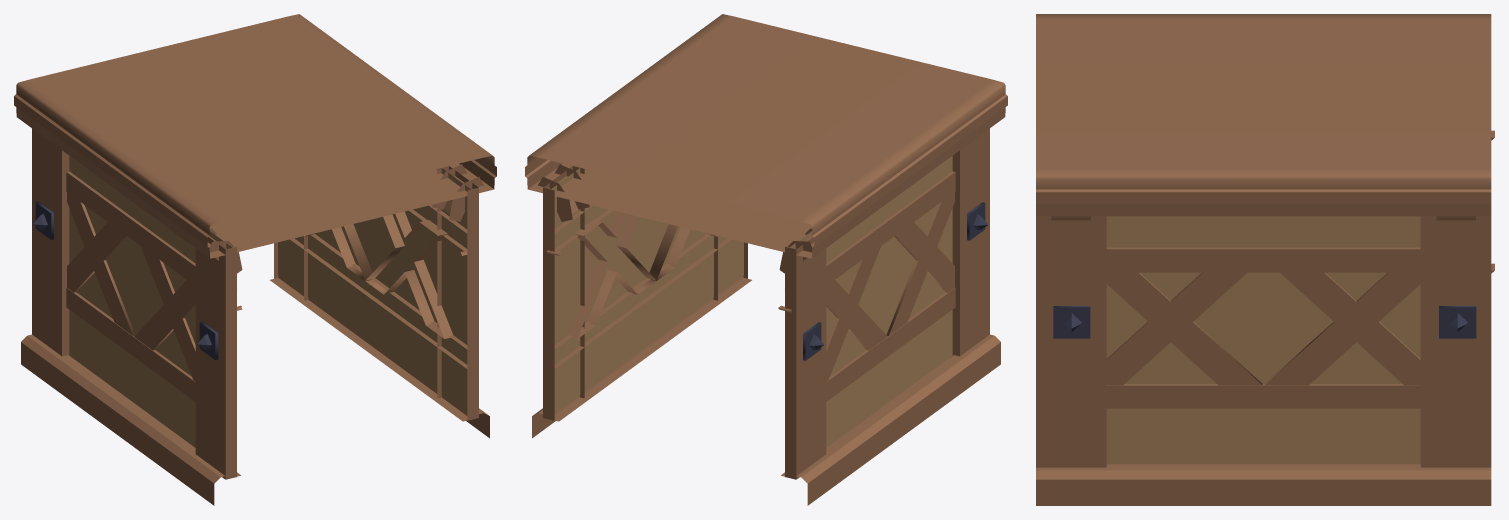
The model's file is BarMiddle.fbx.
3 views of the same model, side by side, from view 1: azimuth 30°, elevation 25°; view 2: azimuth 150°, elevation 25°; view 3: azimuth 270°, elevation 25° (orthographic). The views are drawn at different scales.
Visible parts, largest first — view 1: BarMiddle; view 2: BarMiddle; view 3: BarMiddle.
Part boxes in pixels (bbox=[...]): BarMiddle: bbox=[14, 14, 496, 505]; BarMiddle: bbox=[525, 14, 1007, 505]; BarMiddle: bbox=[1036, 14, 1494, 505].
Size of the model in its own units: 1.73 by 1.61 by 2.02.
